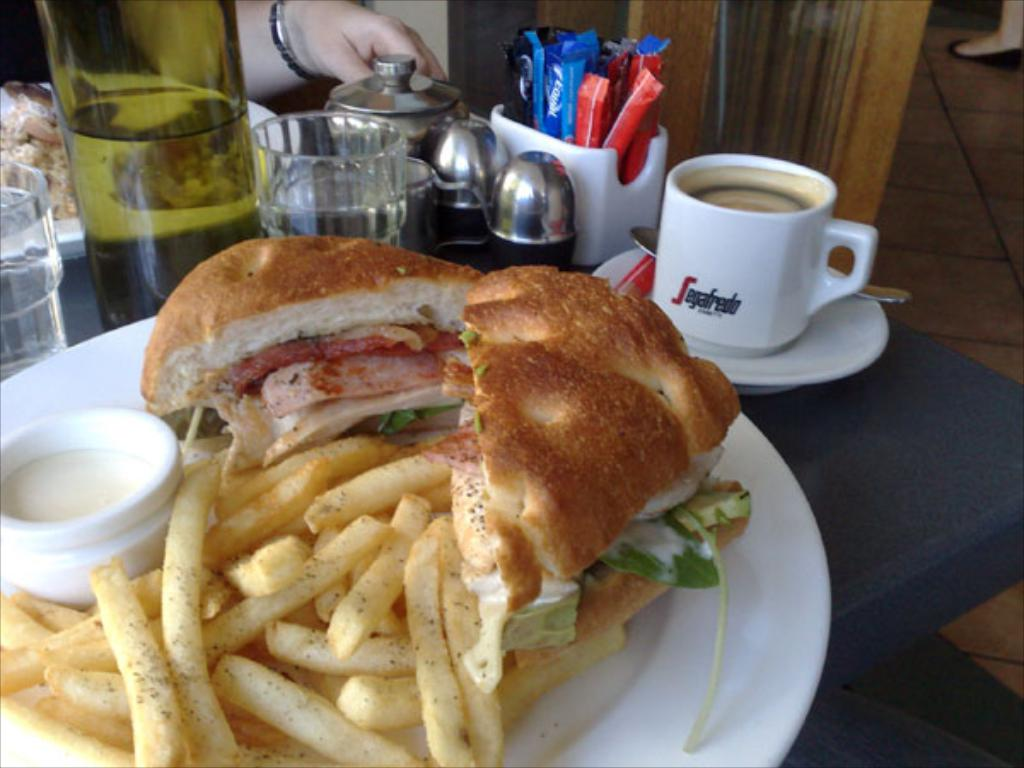French fries: (0, 377, 641, 766)
